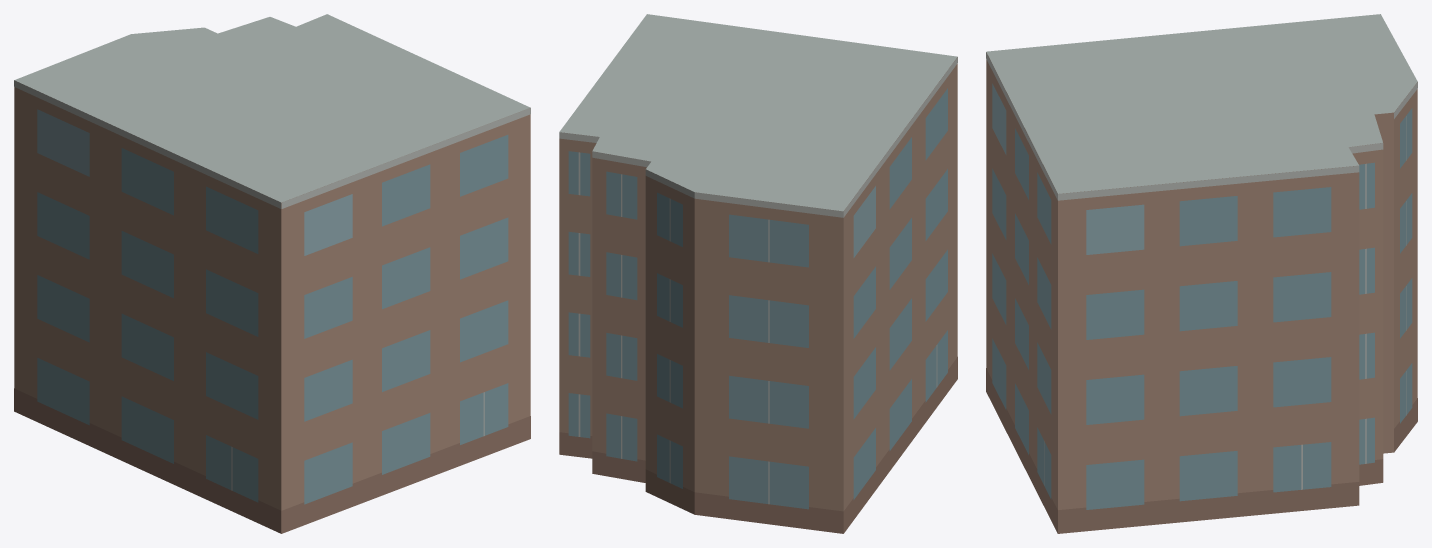
File: survey-upis-32824118.glb
3 views of the same model, side by side, from view 1: azimuth 30°, elevation 25°; view 2: azimuth 150°, elevation 25°; view 3: azimuth 270°, elevation 25° (orthographic). The views are drawn at different scales.
Visible parts, largest first — view 1: survey-upis-32824118.tmp; view 2: survey-upis-32824118.tmp; view 3: survey-upis-32824118.tmp.
Part boxes in pixels (x1,y1,x2,y2): survey-upis-32824118.tmp: [14, 14, 530, 533]; survey-upis-32824118.tmp: [559, 14, 957, 533]; survey-upis-32824118.tmp: [986, 14, 1417, 533].
Bounding box in the file's own units: 13.85 × 12.2 × 14.05.
